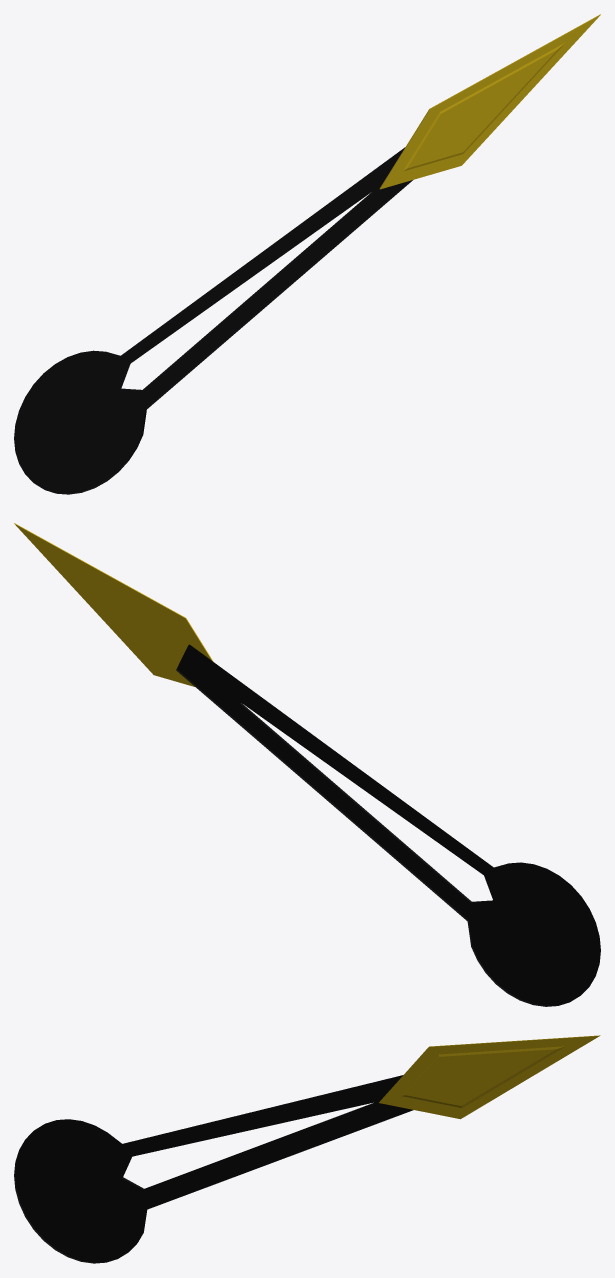
The model's file is minutehand.glb.
3 renders of one model, top to bottom at view 1: azimuth 30°, elevation 25°; view 2: azimuth 150°, elevation 25°; view 3: azimuth 330°, elevation 25°, orthographic.
Visible parts, largest first — view 1: Plane.004; view 2: Plane.004; view 3: Plane.004.
Boxes of the visible parts, x1,y1,x2,y2 form: Plane.004: [14, 14, 600, 494]; Plane.004: [14, 523, 600, 1006]; Plane.004: [14, 1035, 600, 1263].
Bounding box in the file's own units: 2.03 × 1.17 × 0.0144.
